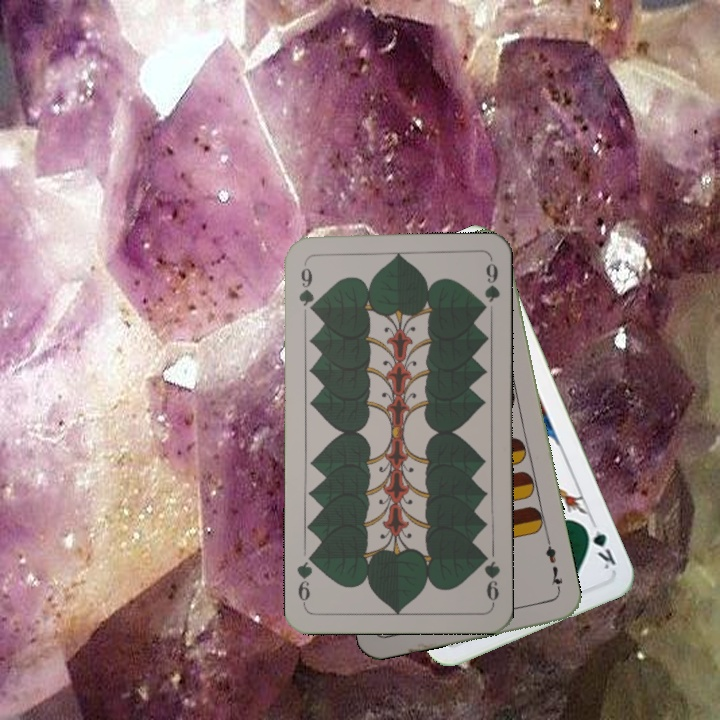E7: (541, 537, 566, 596)
G9: (477, 548, 502, 607), (294, 259, 317, 317)
GK: (579, 520, 619, 572)
